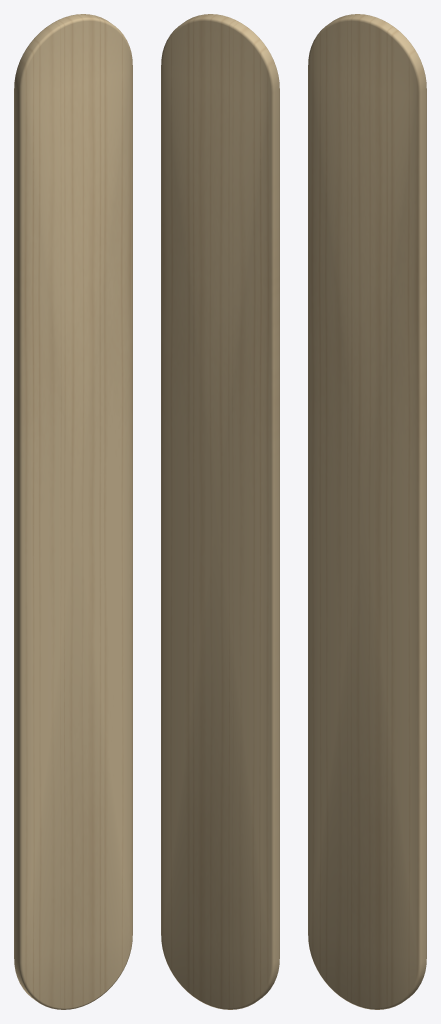
The model's file is tongue_depressor.glb.
The picture shows the model from 3 angles, left to right: view 1: azimuth 30°, elevation 25°; view 2: azimuth 150°, elevation 25°; view 3: azimuth 330°, elevation 25°; orthographic projection.
Parts seen in each view (by area): view 1: TongueDepressor_Birch; view 2: TongueDepressor_Birch; view 3: TongueDepressor_Birch.
Boxes of the visible parts, x1,y1,x2,y2 form: TongueDepressor_Birch: (14, 14, 132, 1009); TongueDepressor_Birch: (161, 14, 279, 1009); TongueDepressor_Birch: (308, 14, 426, 1009).
Size of the model in its own units: 0.018 by 0.15 by 0.002.
1 material, 1 textured.
